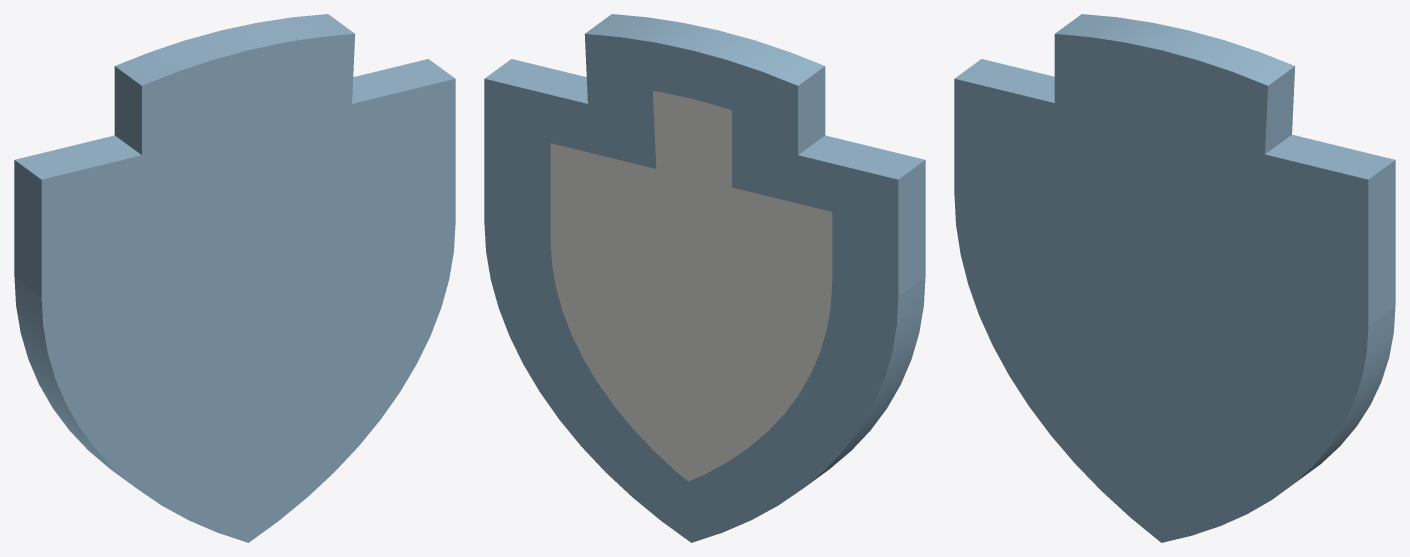
Rendered from Schild.fbx.
3 views of the same model, side by side, from view 1: azimuth 30°, elevation 25°; view 2: azimuth 150°, elevation 25°; view 3: azimuth 330°, elevation 25° (orthographic).
Parts seen in each view (by area): view 1: shieldBlue; view 2: shieldBlue; view 3: shieldBlue.
Part boxes in pixels (x1,y1,x2,y2): shieldBlue: (14,14,455,542); shieldBlue: (484,14,925,542); shieldBlue: (954,14,1395,542).
Size of the model in its own units: 240 by 273 by 27.2.
